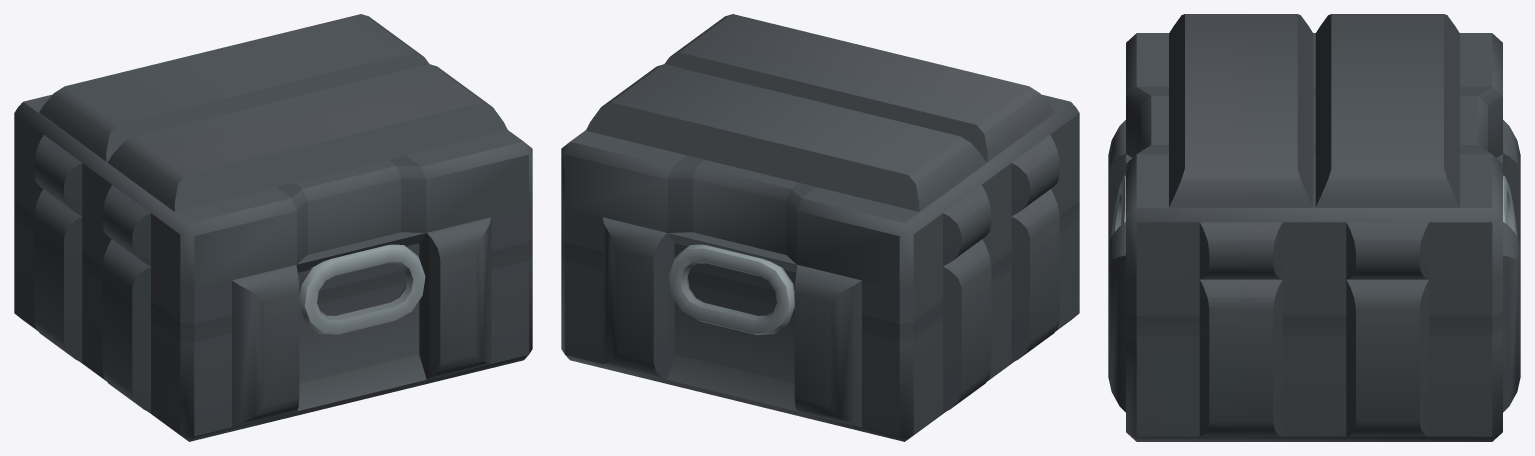
The model's file is containers_crate_small_grey.glb.
3 renders of one model, left to right at view 1: azimuth 30°, elevation 25°; view 2: azimuth 150°, elevation 25°; view 3: azimuth 270°, elevation 25°, orthographic. The views are drawn at different scales.
Visible parts, largest first — view 1: Containers_Crate_Small_Grey; view 2: Containers_Crate_Small_Grey; view 3: Containers_Crate_Small_Grey.
Boxes of the visible parts, <box> form: Containers_Crate_Small_Grey: <box>14,14,532,441</box>; Containers_Crate_Small_Grey: <box>561,14,1079,441</box>; Containers_Crate_Small_Grey: <box>1108,14,1520,441</box>.
Bounding box in the file's own units: 0.81 × 0.5003 × 0.71.
1 material, 1 textured.
